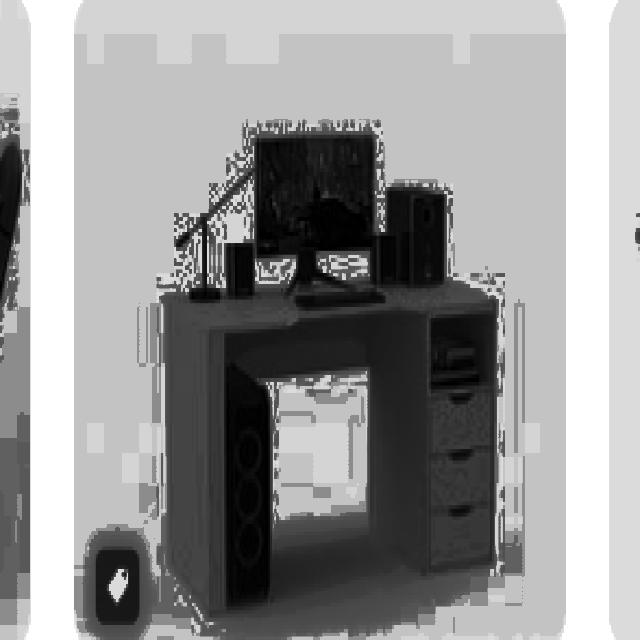table: (161, 273, 496, 614)
